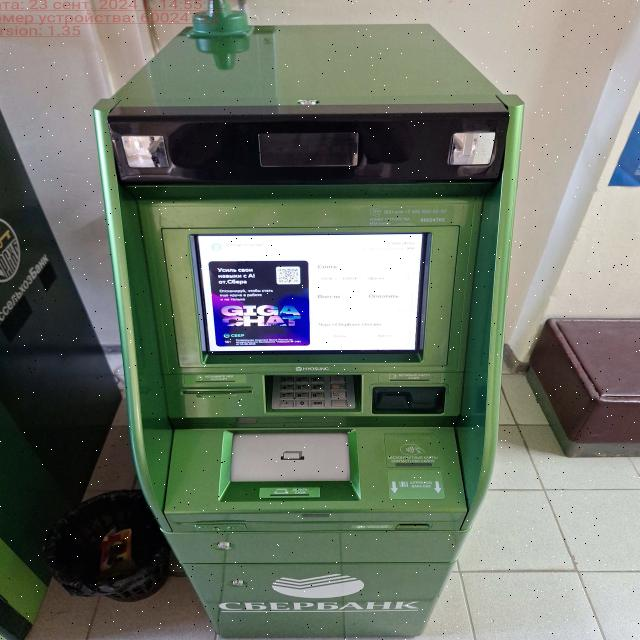bank: (95, 17, 506, 640)
